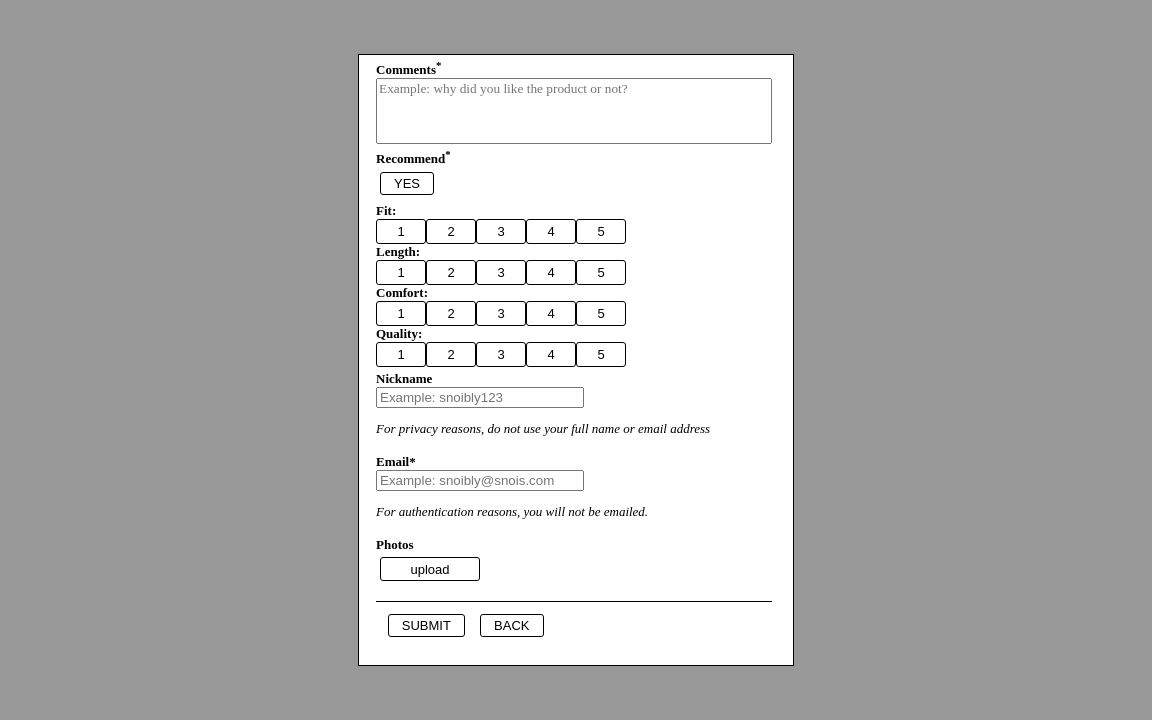
Scenario: clicking uploadphoto button should load photoform
(page scrolled)
What coordinates should you click on to do the following:
click the button "upload"
I would click on:
 (430, 569)
Its box is [380,557,480,581].
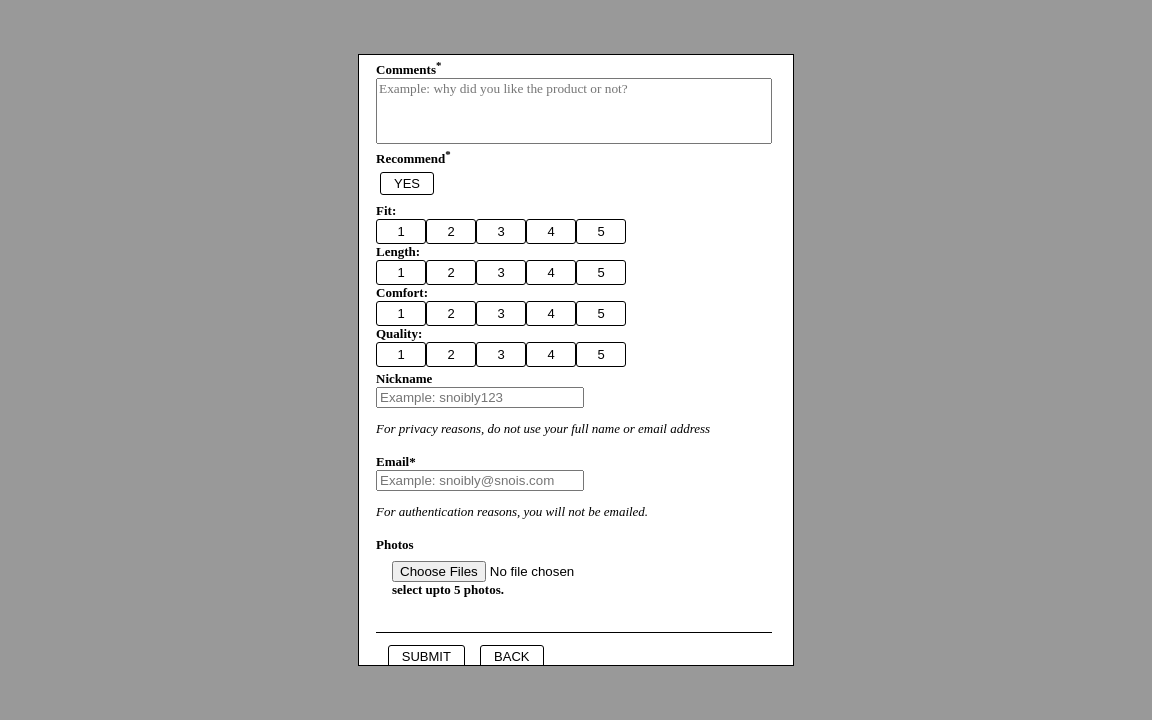
expect the element with test id "photouploadform" is shown: met, box [392,561,645,608]
